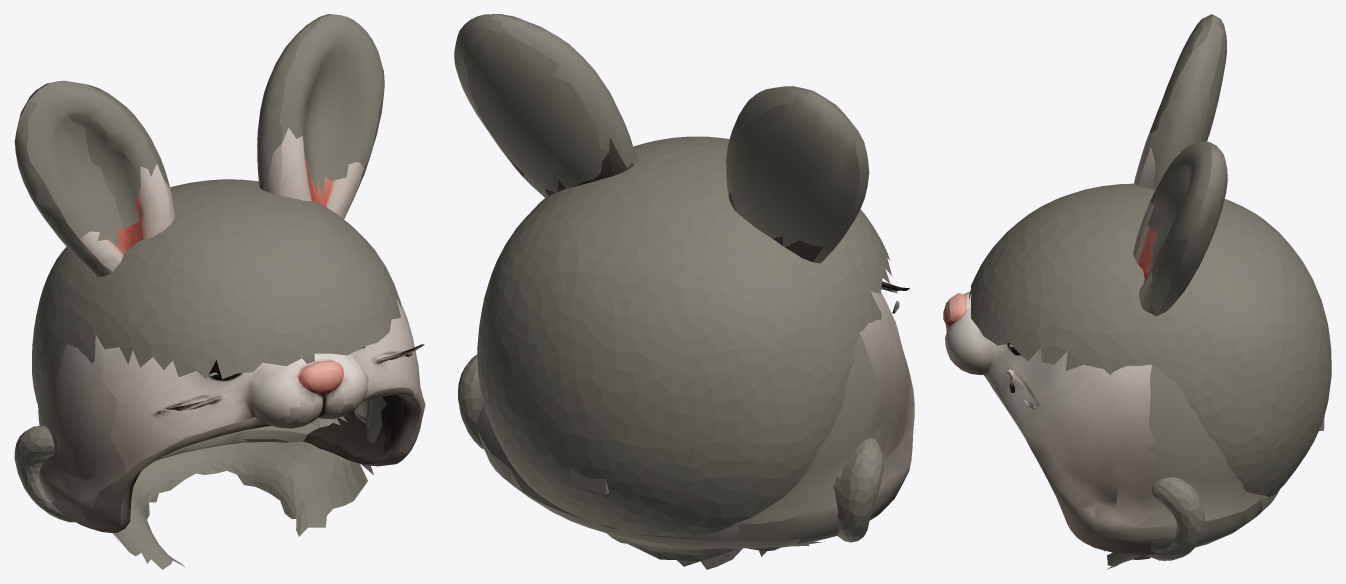
File: rabbit.glb
3 renders of one model, left to right at view 1: azimuth 30°, elevation 25°; view 2: azimuth 150°, elevation 25°; view 3: azimuth 270°, elevation 25°, orthographic. The views are drawn at different scales.
Visible parts, largest first — view 1: geometry_0, HoodAnatomicalLining; view 2: HoodAnatomicalLining, geometry_0; view 3: HoodAnatomicalLining, geometry_0.
Boxes of the visible parts, x1=… form: geometry_0: x1=14, y1=14, x2=425, y2=532; HoodAnatomicalLining: x1=14, y1=179, x2=401, y2=569; HoodAnatomicalLining: x1=458, y1=136, x2=892, y2=569; geometry_0: x1=454, y1=14, x2=914, y2=548; HoodAnatomicalLining: x1=969, y1=183, x2=1331, y2=569; geometry_0: x1=943, y1=14, x2=1324, y2=554.
Bounding box in the file's own units: 0.4688 × 0.5603 × 0.4332.
2 materials, 1 textured.
